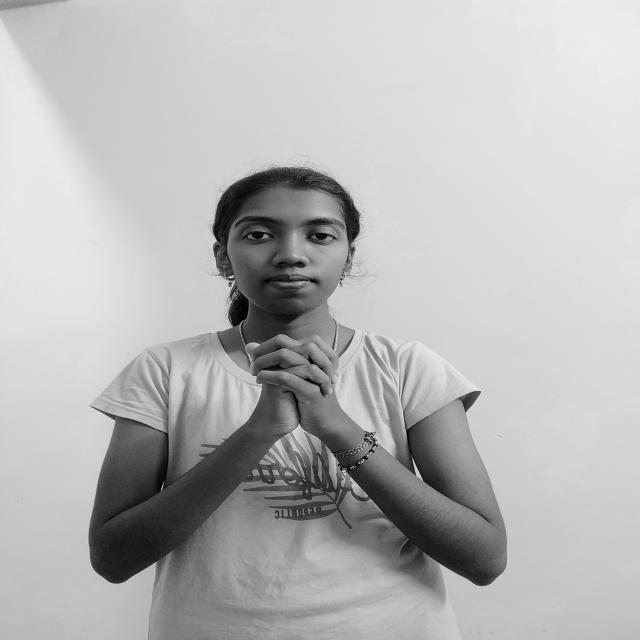Sorry: (226, 329, 360, 469)
